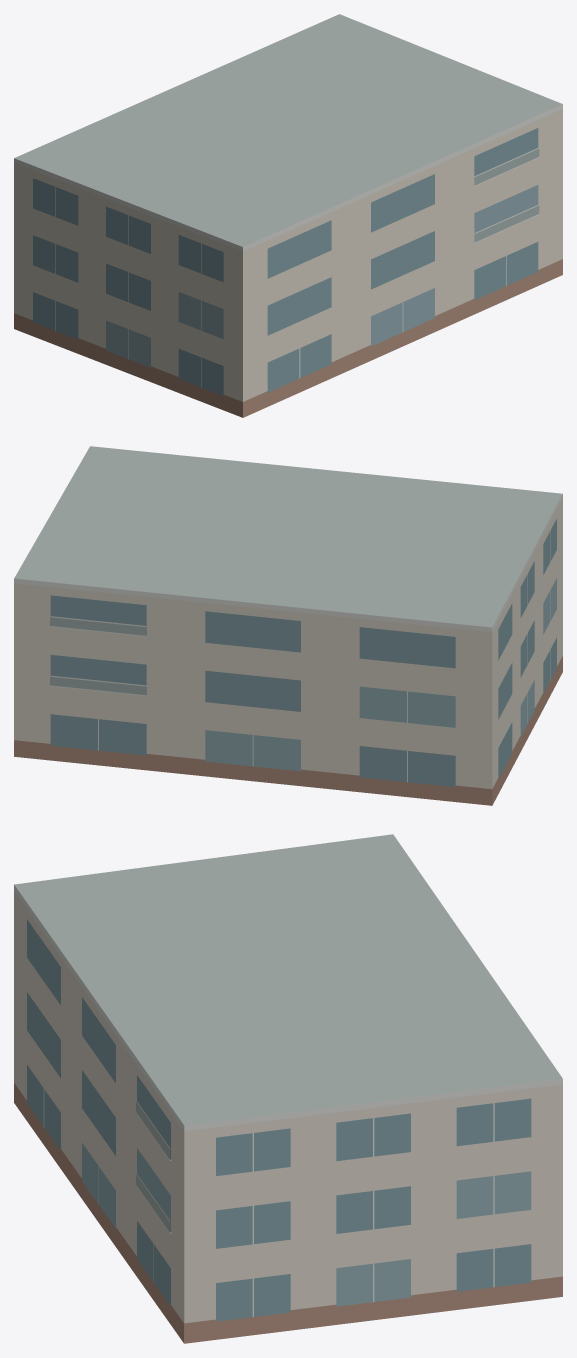
File: survey-upis-32840073.glb
The picture shows the model from 3 angles, top to bottom: view 1: azimuth 30°, elevation 25°; view 2: azimuth 150°, elevation 25°; view 3: azimuth 270°, elevation 25°; orthographic projection. The views are drawn at different scales.
Parts seen in each view (by area): view 1: survey-upis-32840073.tmp; view 2: survey-upis-32840073.tmp; view 3: survey-upis-32840073.tmp.
Boxes of the visible parts, x1,y1,x2,y2 form: survey-upis-32840073.tmp: (14,14,562,417); survey-upis-32840073.tmp: (14,446,562,805); survey-upis-32840073.tmp: (14,834,562,1343).
Bounding box in the file's own units: 26.2 × 9.15 × 20.86.
